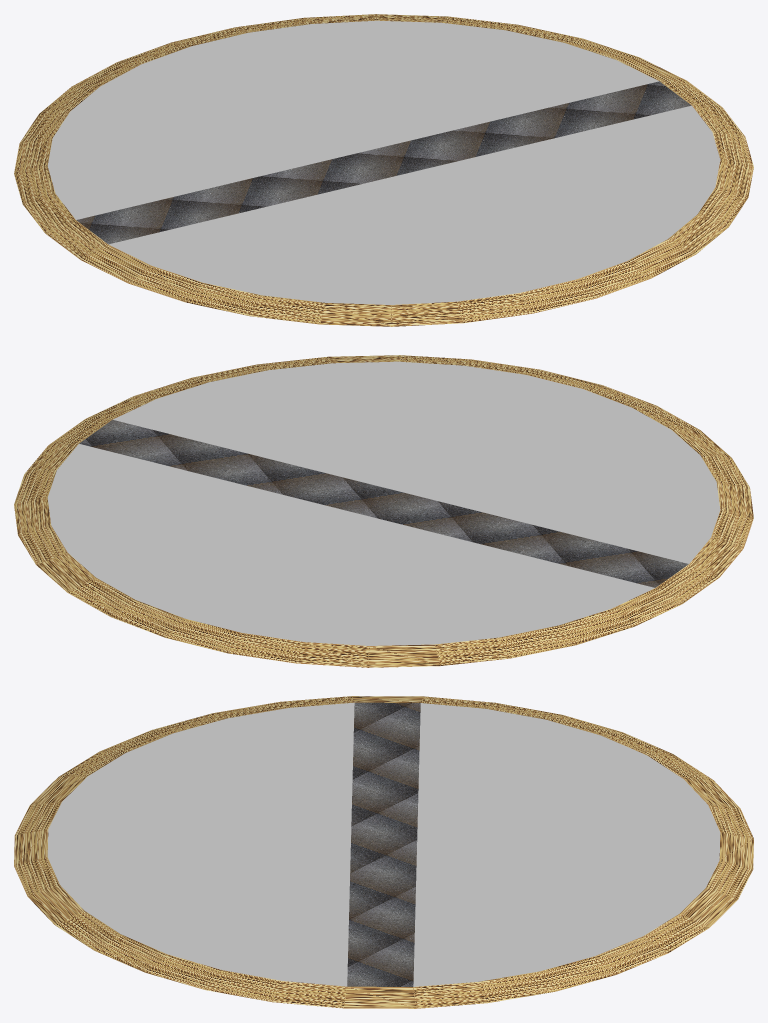
3 views of the same model, one above another, from view 1: azimuth 30°, elevation 25°; view 2: azimuth 150°, elevation 25°; view 3: azimuth 270°, elevation 25° (orthographic).
Parts seen in each view (by area): view 1: 锥体; view 2: 锥体; view 3: 锥体.
Part boxes in pixels (x1=…): 锥体: x1=14, y1=14, x2=753, y2=326; 锥体: x1=14, y1=355, x2=753, y2=667; 锥体: x1=14, y1=696, x2=753, y2=1008.
Size of what is drawn, in the model's own units: 438 by 5 by 438.
